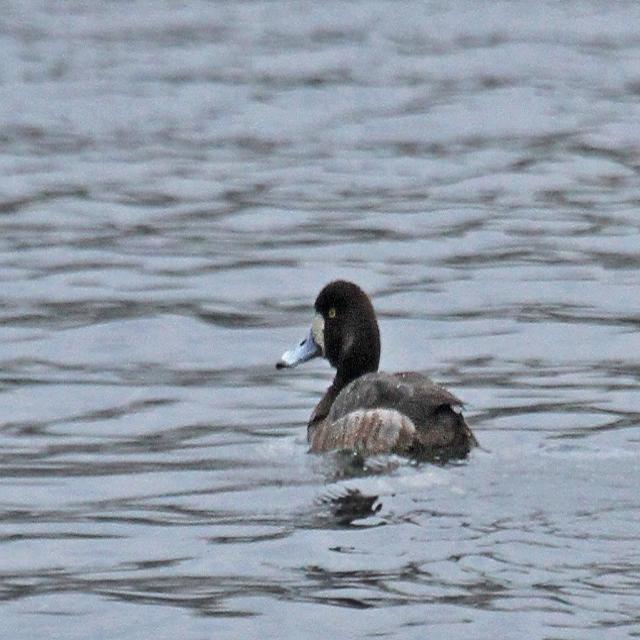bird: (286, 274, 483, 472)
